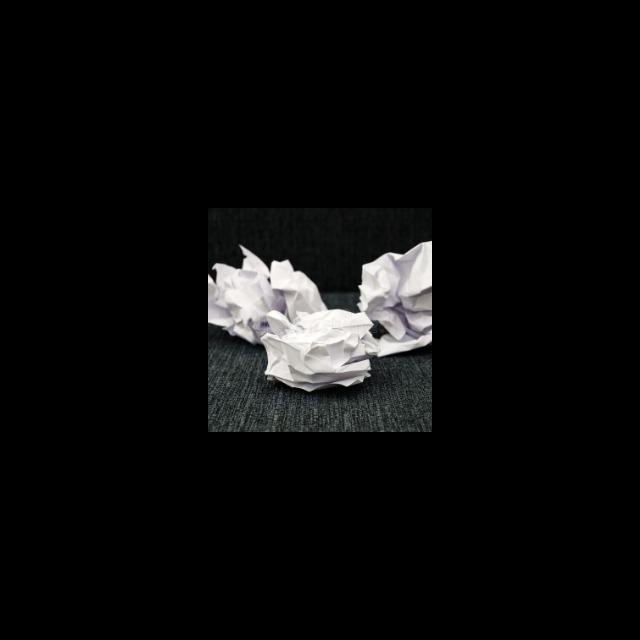paper: (259, 301, 389, 405), (208, 239, 334, 339), (356, 241, 432, 359)
